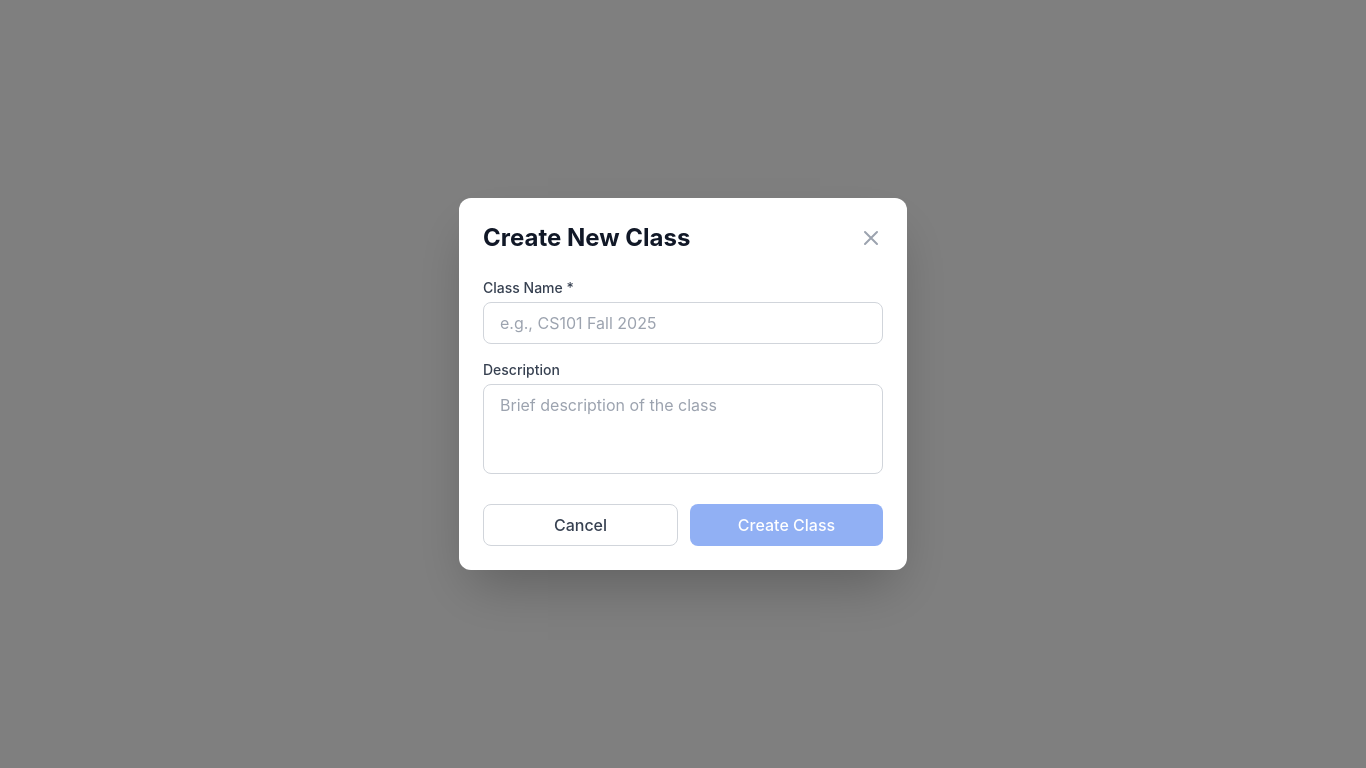
Test: CreateClassModal › shows error when API returns error
The image size is (1366, 768).
Type "CS101" into the field labelled "Class Name *" at [683, 323], box [483,302,883,344]
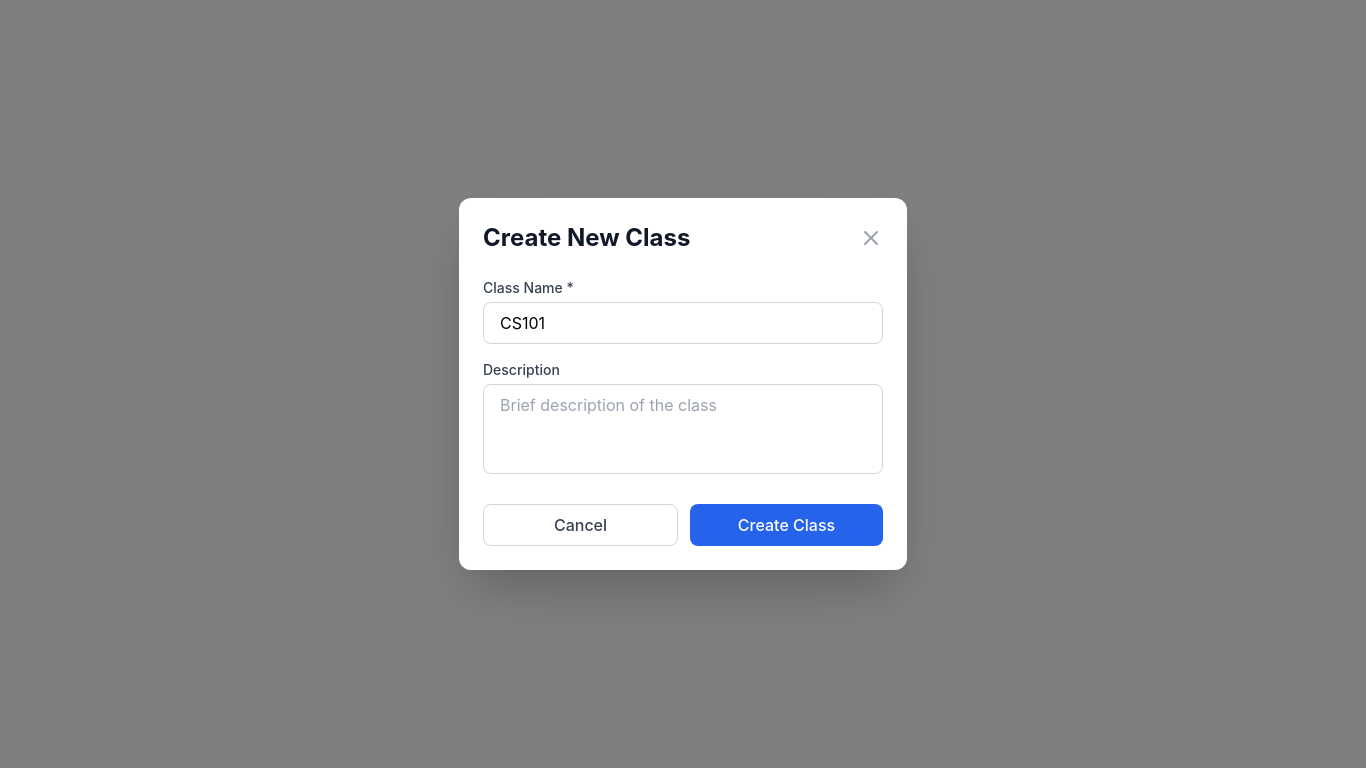
Click the button "Create Class" at [786, 525], box [690,504,883,546]
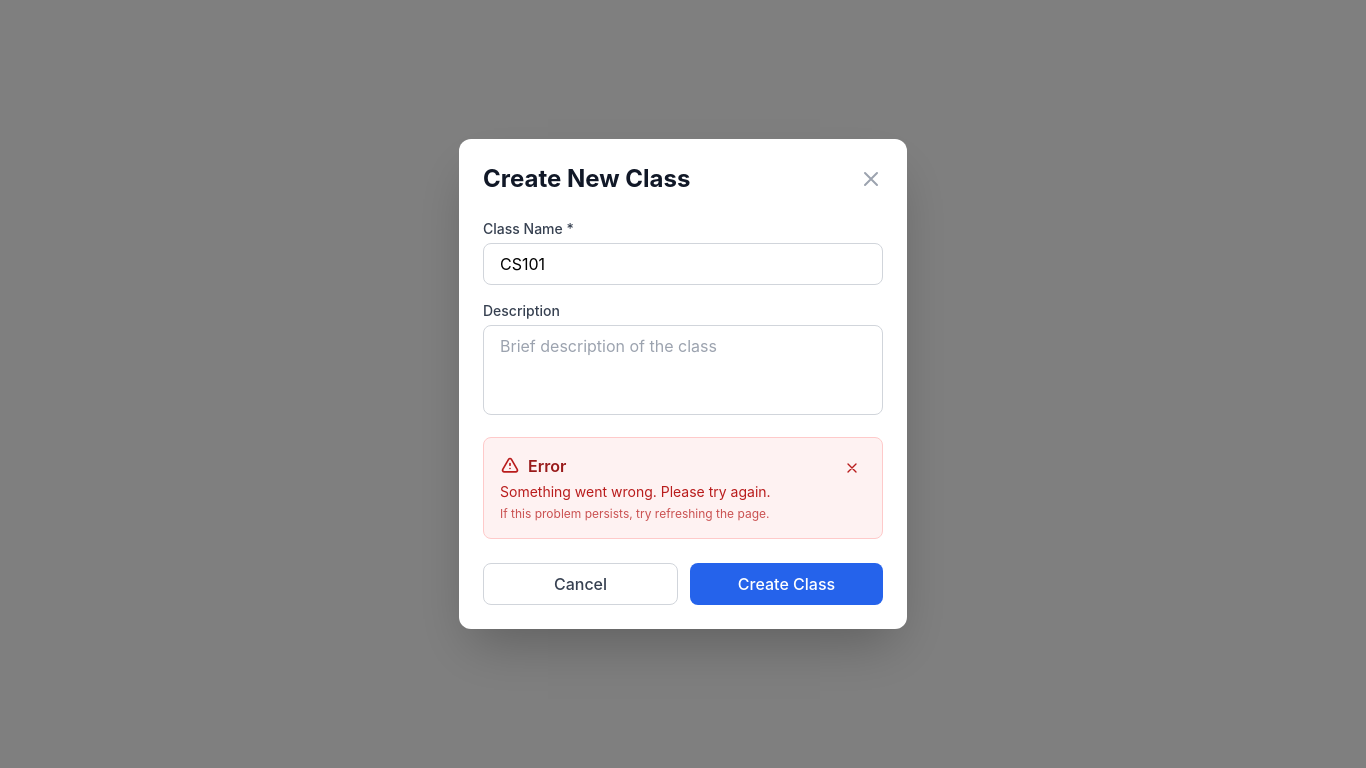
Check: the message is shown, box [483,437,883,539]
